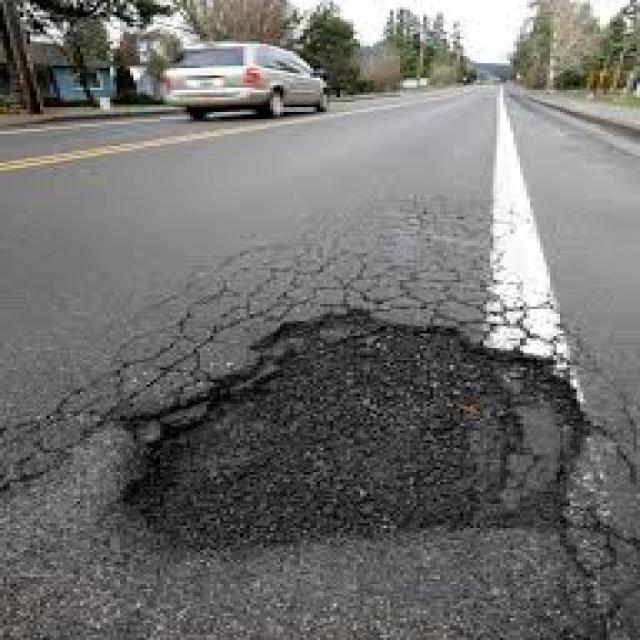Pothole: (121, 312, 582, 547)
